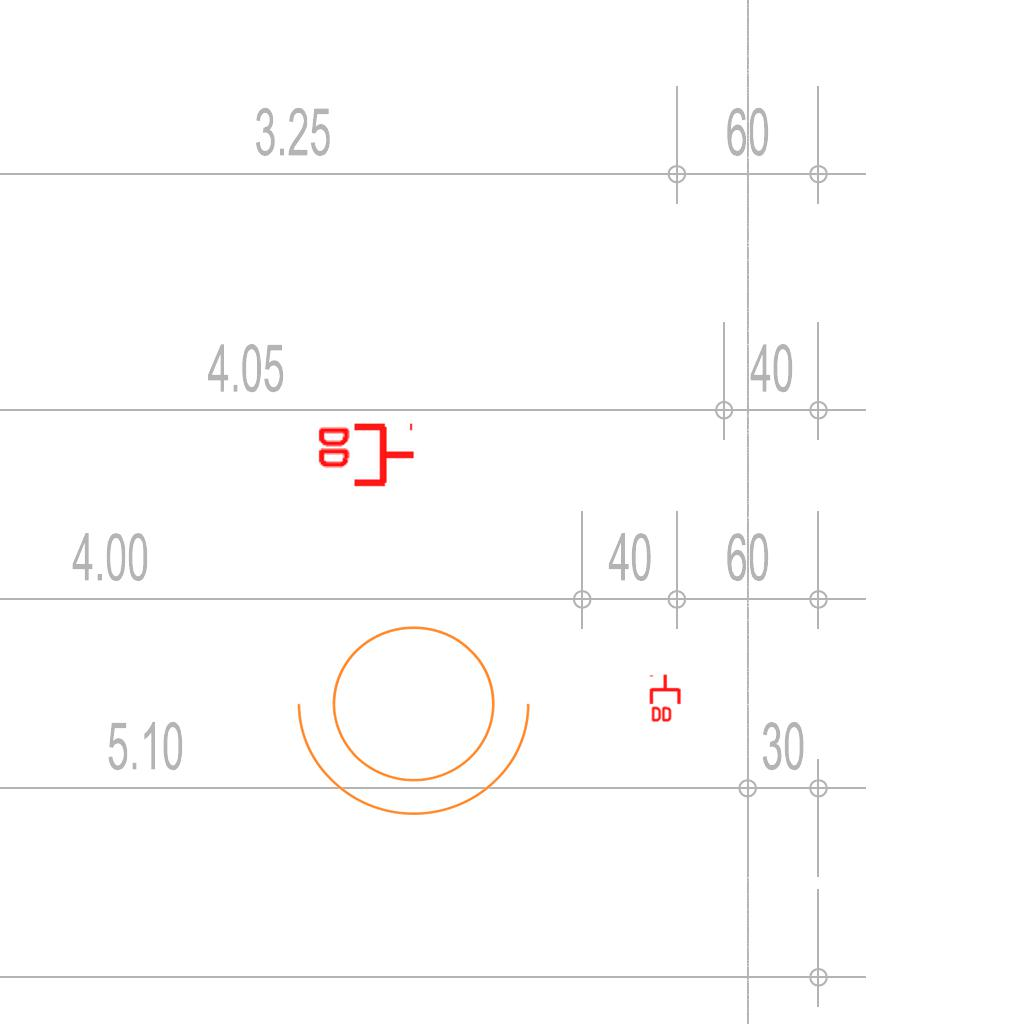Datenanschluss_zweifach: (314, 422, 417, 491), (649, 673, 683, 724)
Scheinwerfer_fuer_Alarmbeleuchtung: (288, 601, 552, 826)
